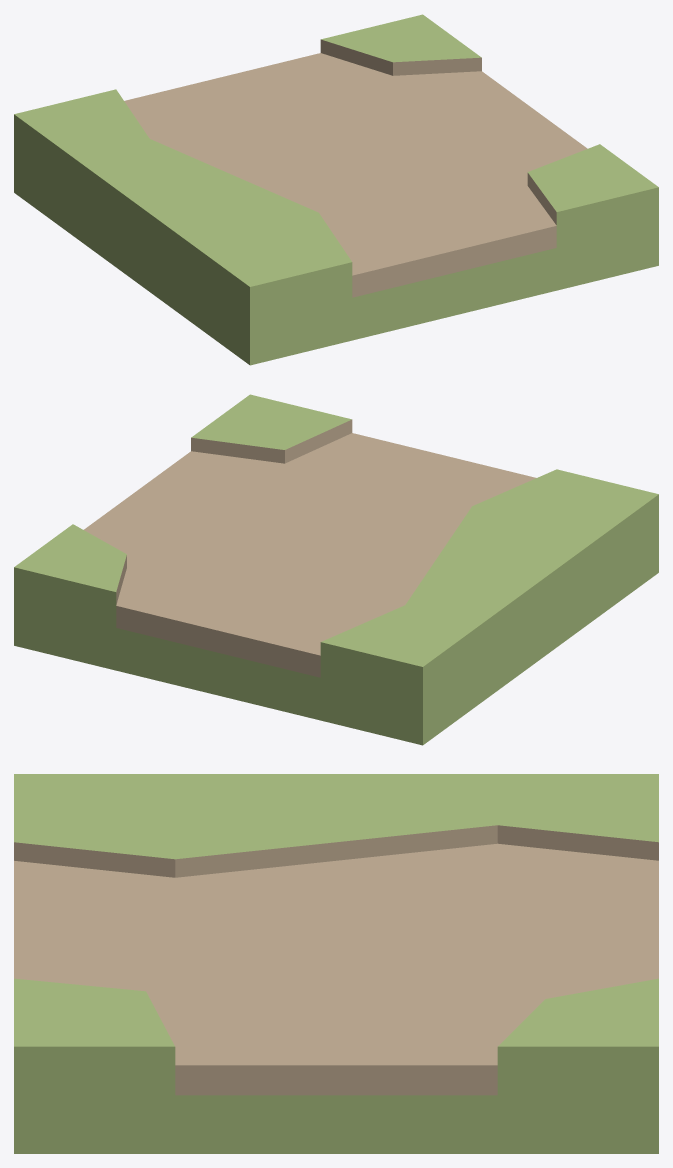
File: SM_GRASS_05.fbx
3 views of the same model, one above another, from view 1: azimuth 30°, elevation 25°; view 2: azimuth 150°, elevation 25°; view 3: azimuth 270°, elevation 25° (orthographic). The views are drawn at different scales.
Visible parts, largest first — view 1: GRASS_05; view 2: GRASS_05; view 3: GRASS_05.
Boxes of the visible parts, x1,y1,x2,y2 form: GRASS_05: [14, 14, 658, 365]; GRASS_05: [14, 394, 658, 745]; GRASS_05: [14, 774, 658, 1153].
Size of the model in its own units: 437 by 80.19 by 437.
